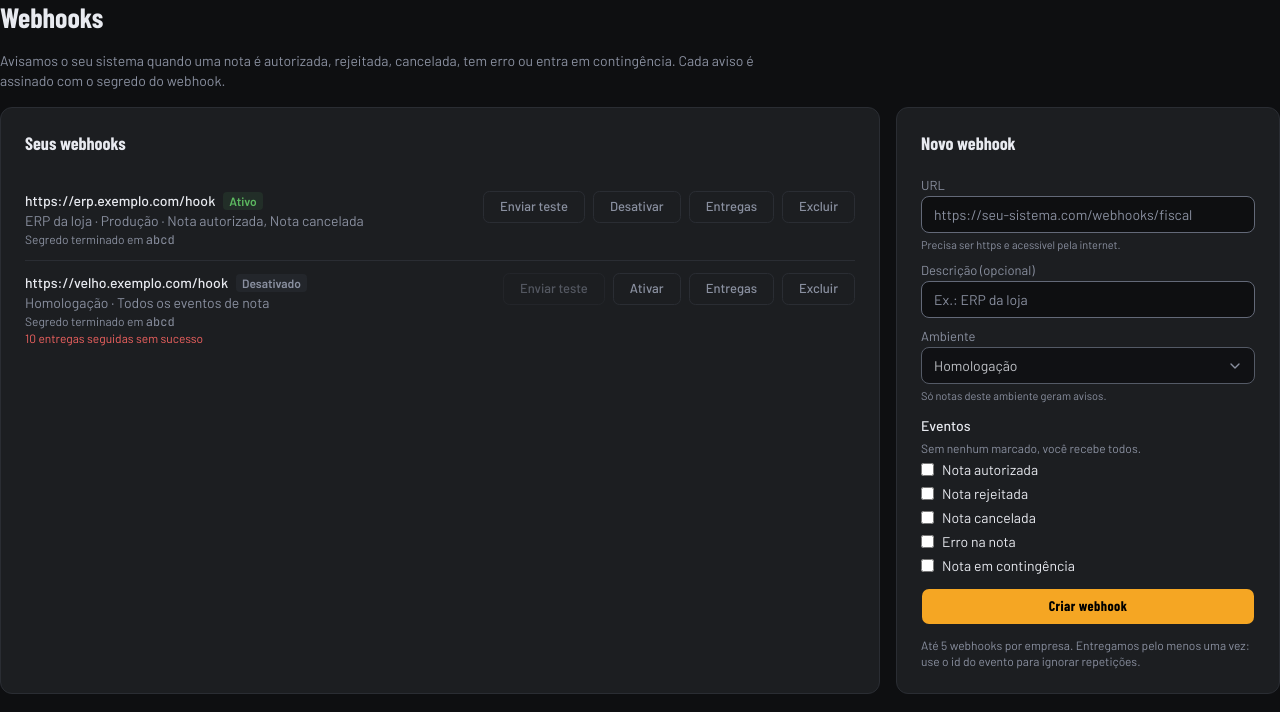
Test: webhooks › erro de URL inválida aparece em alerta
The width and height of the screenshot is (1280, 712).
Type "http://x.com" into the field labelled "URL".
click(1088, 214); type("http://x.com")  # box x1=921 y1=196 x2=1255 y2=232
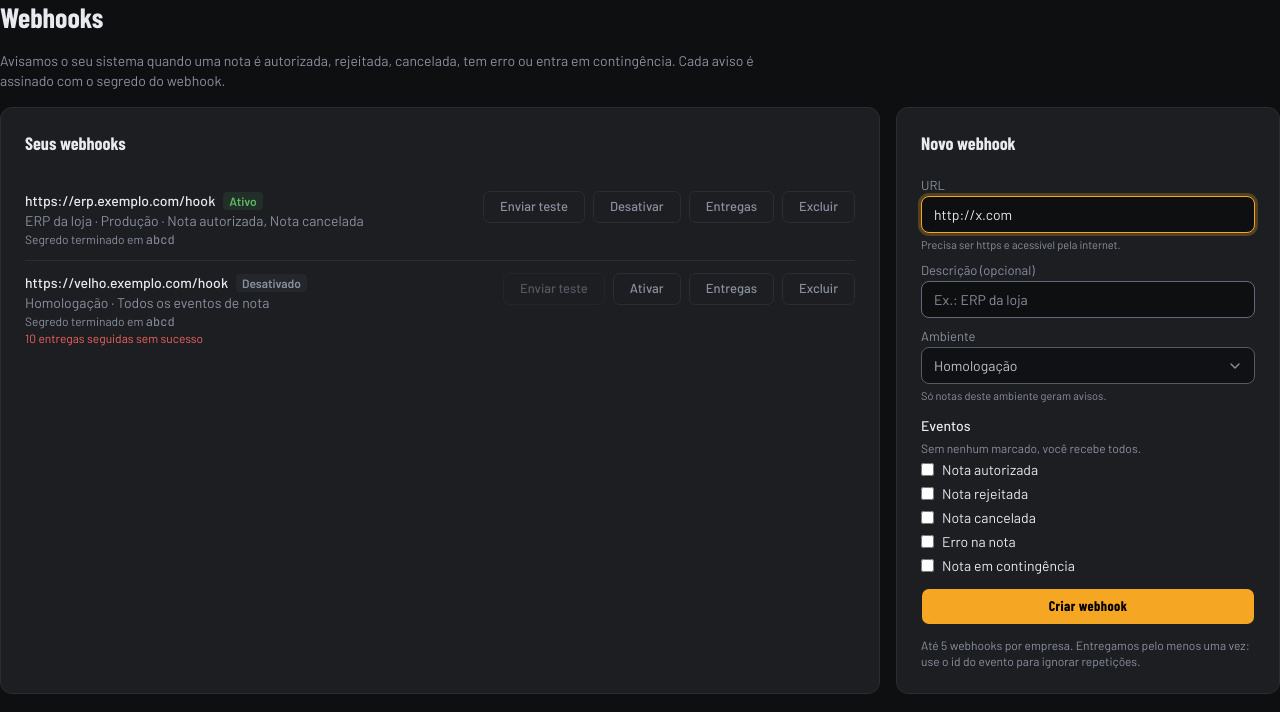
Click the button "Criar webhook".
click(1088, 606)  # box x1=921 y1=588 x2=1255 y2=625
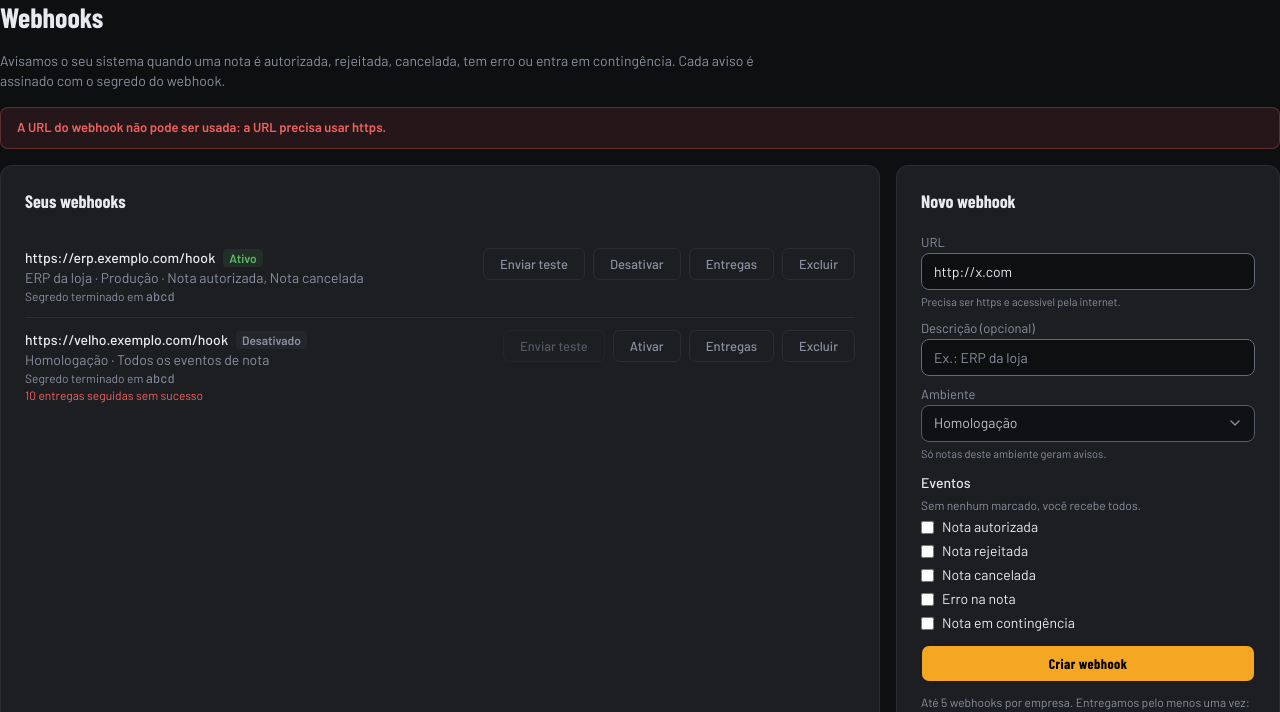
Expected: the message shows "precisa usar https", x1=17 y1=119 x2=386 y2=135
